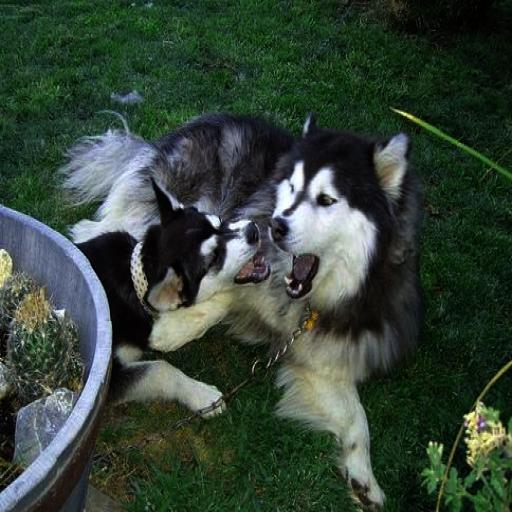dog_face: (273, 120, 402, 314)
